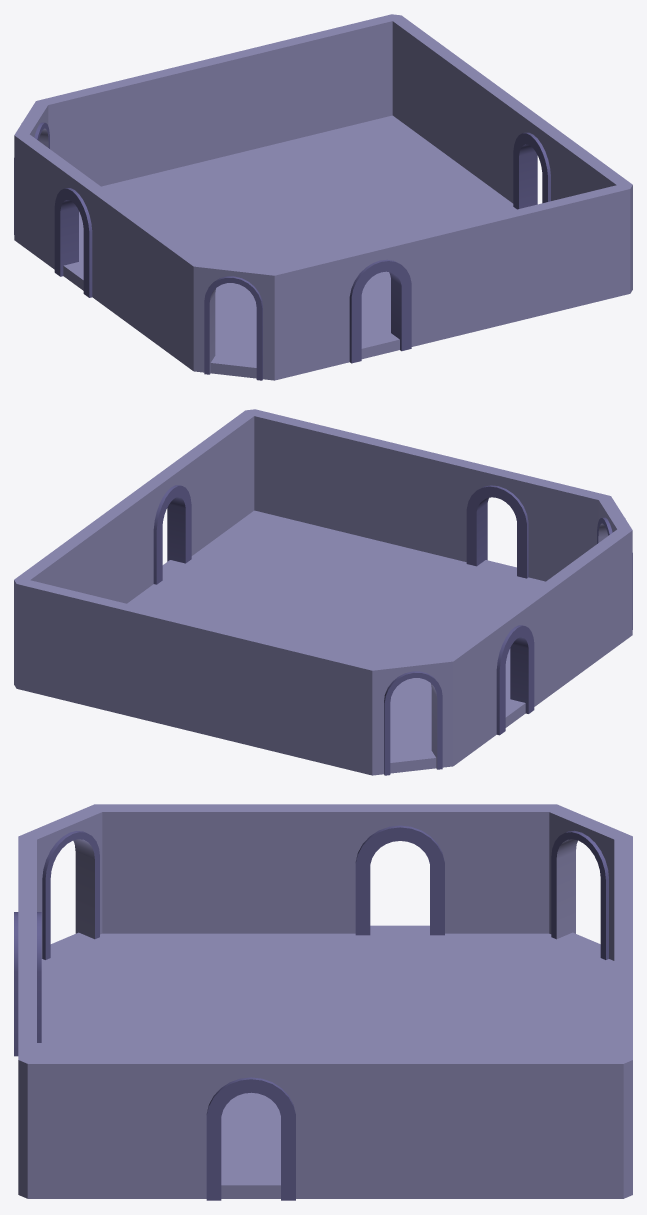
File: hub6.fbx
3 renders of one model, top to bottom at view 1: azimuth 30°, elevation 25°; view 2: azimuth 150°, elevation 25°; view 3: azimuth 270°, elevation 25°, orthographic. The views are drawn at different scales.
Visible parts, largest first — view 1: mergedBlocks; view 2: mergedBlocks; view 3: mergedBlocks.
Part boxes in pixels (x1,y1,x2,y2): mergedBlocks: (14,14,632,380); mergedBlocks: (14,409,632,775); mergedBlocks: (14,804,632,1200).
Bounding box in the file's own units: 41.85 × 10 × 41.55.
